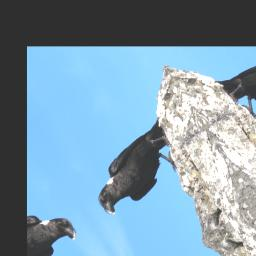Crow: (75, 116, 194, 221)
